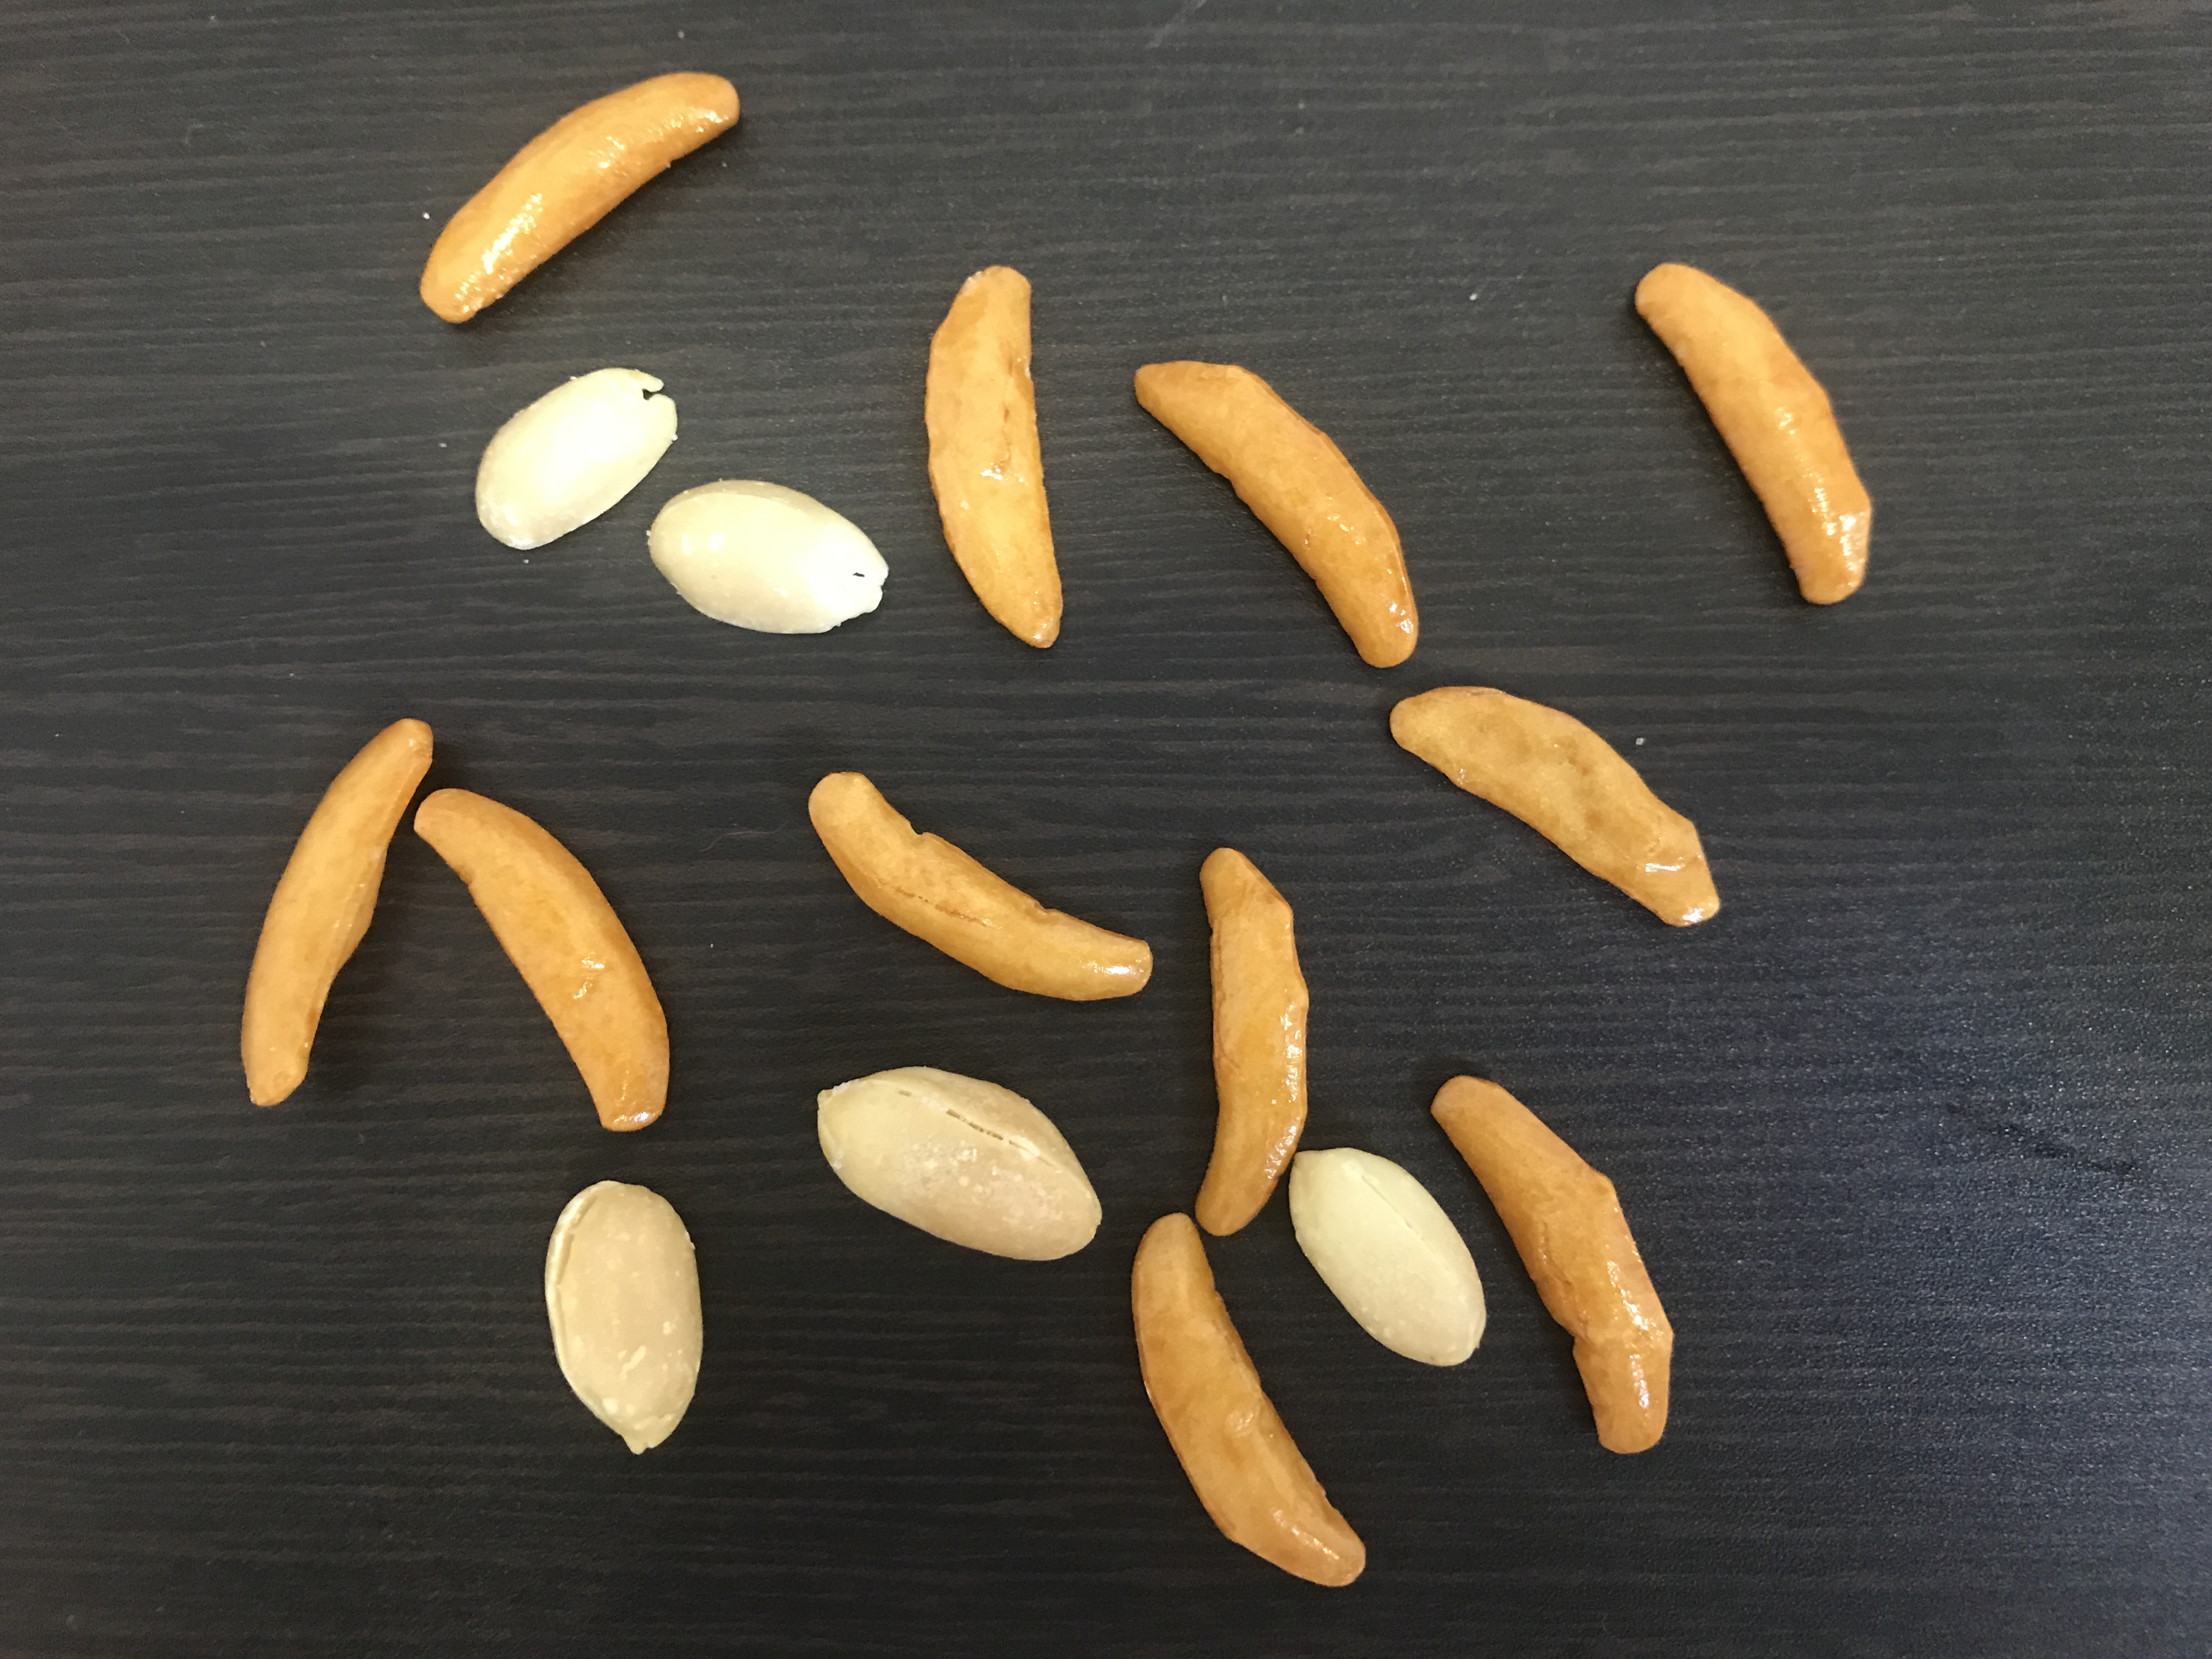peanut: (808, 1061, 1113, 1267), (535, 1175, 714, 1462), (1285, 1145, 1493, 1371), (469, 362, 681, 552), (646, 479, 892, 638)
